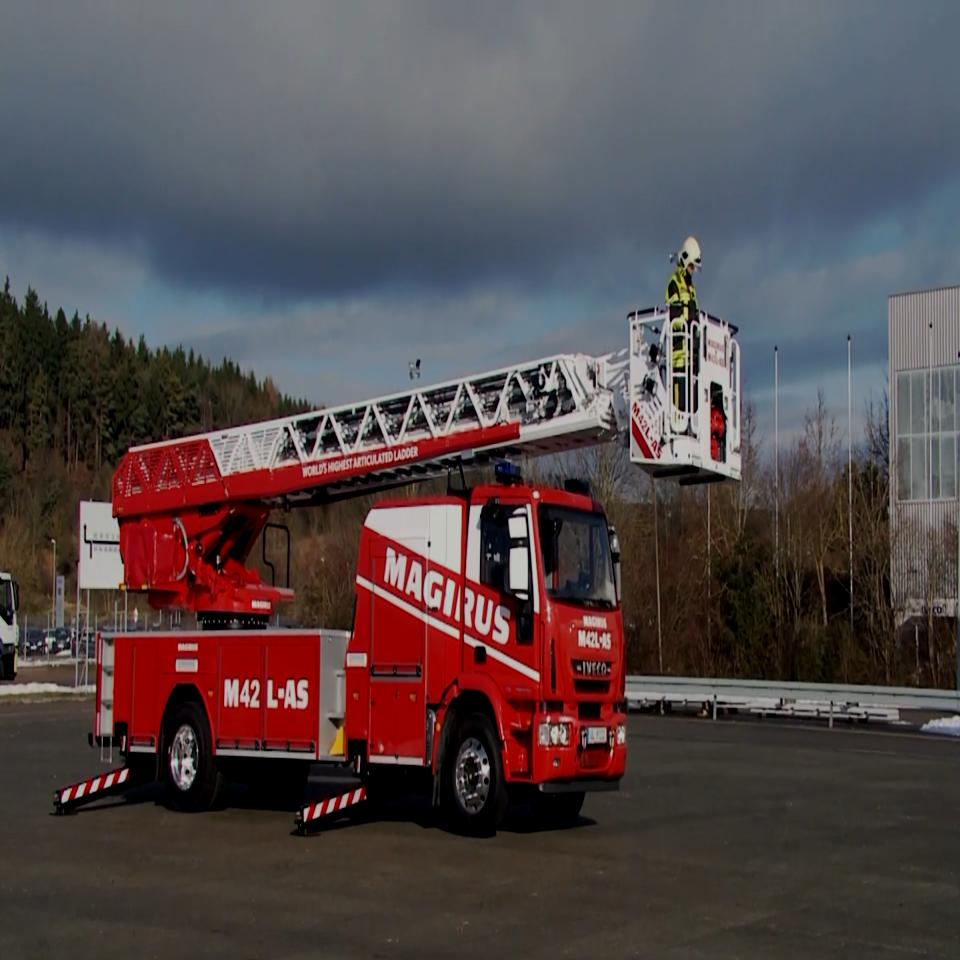bombeiro: (52, 330, 743, 841)
